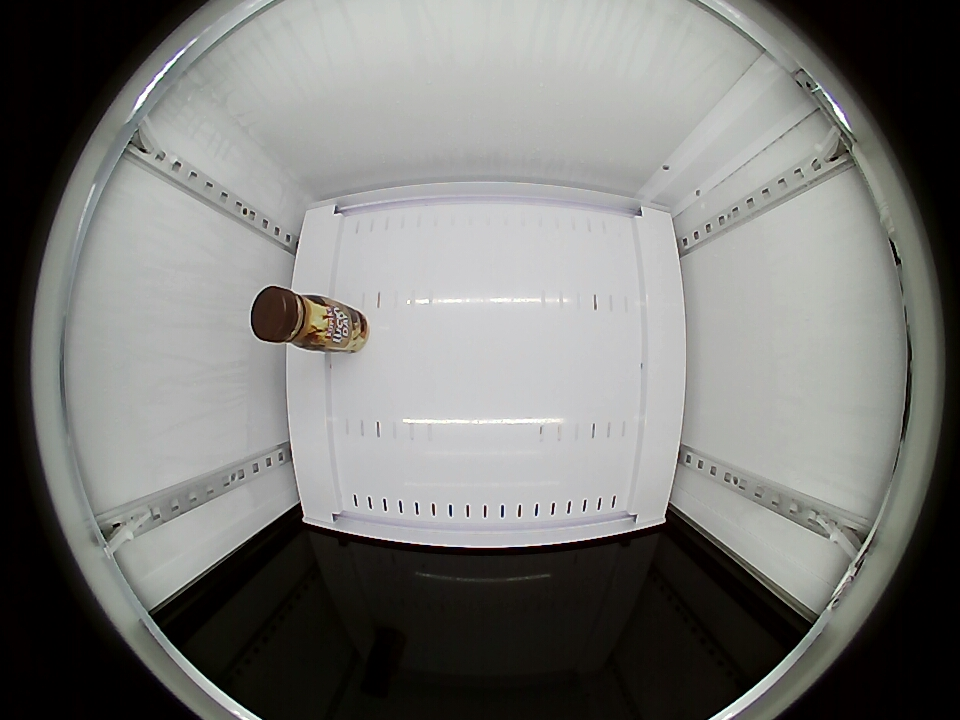lujikafei: (251, 286, 334, 351)
